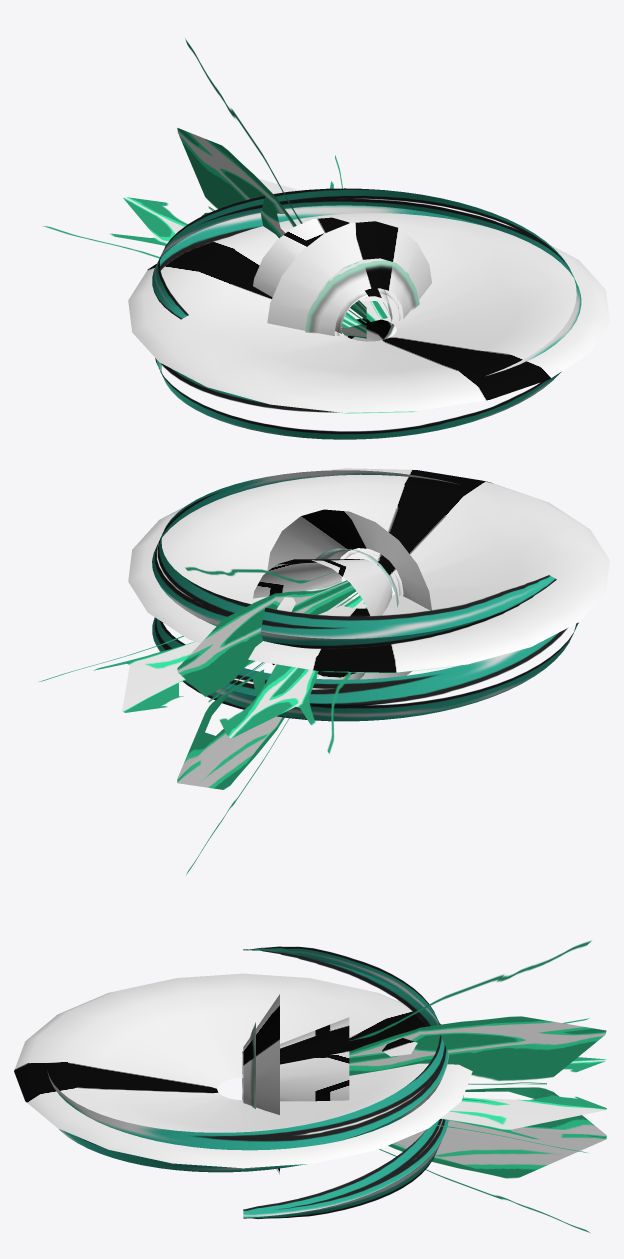
Rendered from VFX_Banshee_Meshes.gltf.
3 views of the same model, one above another, from view 1: azimuth 30°, elevation 25°; view 2: azimuth 150°, elevation 25°; view 3: azimuth 270°, elevation 25° (orthographic). The views are drawn at different scales.
Visible parts, largest first — view 1: Banshee_VFX_base_ground_ring_particles, Banshee_VFX_SlowHalo, Banshee_VFX_Particle_short, Banshee_VFX_triangle_Shout, Banshee_VFX_Particle_long, Banshee_VFX_triangle_Shout1, Banshee_VFX_mouth_long; view 2: Banshee_VFX_base_ground_ring_particles, Banshee_VFX_SlowHalo, Banshee_VFX_triangle_Shout, Banshee_VFX_triangle_Shout1, Banshee_VFX_Particle_short, Banshee_VFX_Particle_long; view 3: Banshee_VFX_base_ground_ring_particles, Banshee_VFX_triangle_Shout, Banshee_VFX_SlowHalo, Banshee_VFX_Particle_long, Banshee_VFX_triangle_Shout1, Banshee_VFX_Particle_short.
Boxes of the visible parts, x1,y1,x2,y2 form: Banshee_VFX_base_ground_ring_particles: (128,213,609,412); Banshee_VFX_SlowHalo: (152,188,581,439); Banshee_VFX_Particle_short: (267,221,431,335); Banshee_VFX_triangle_Shout: (177,38,366,338); Banshee_VFX_Particle_long: (253,217,392,341); Banshee_VFX_triangle_Shout1: (43,155,390,328); Banshee_VFX_mouth_long: (305,258,419,334); Banshee_VFX_base_ground_ring_particles: (128,468,609,672); Banshee_VFX_SlowHalo: (152,470,578,721); Banshee_VFX_triangle_Shout: (177,567,357,874); Banshee_VFX_triangle_Shout1: (39,581,366,753); Banshee_VFX_Particle_short: (267,509,431,679); Banshee_VFX_Particle_long: (253,559,392,689); Banshee_VFX_base_ground_ring_particles: (14,973,472,1168); Banshee_VFX_triangle_Shout: (349,940,606,1232); Banshee_VFX_SlowHalo: (47,946,448,1219); Banshee_VFX_Particle_long: (280,1017,349,1101); Banshee_VFX_triangle_Shout1: (433,1018,606,1153); Banshee_VFX_Particle_short: (243,994,279,1174).
Size of the model in its own units: 2.07 by 1.59 by 2.69.
5 materials, 5 textured.
